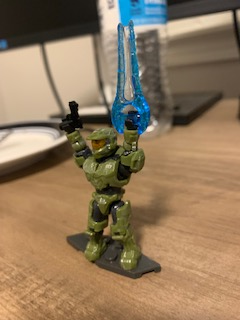chief: (59, 110, 145, 271)
pistol: (56, 99, 86, 137)
spartan: (57, 108, 143, 269)
up: (59, 112, 146, 197)
